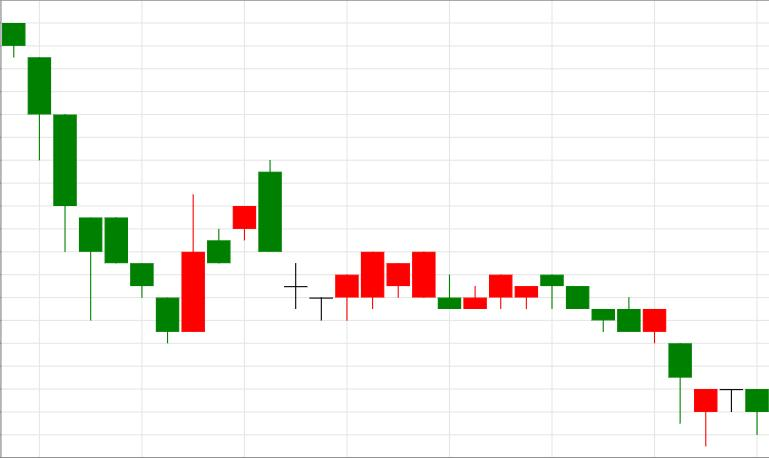bearish_engulfing_fall: (181, 161, 282, 332)
hammer_rise: (541, 274, 717, 447), (1, 23, 102, 320), (540, 274, 692, 422)
